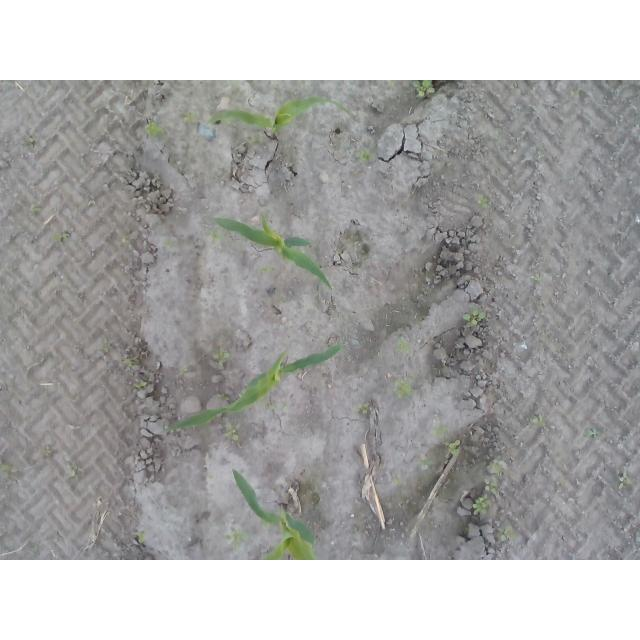Maize: (161, 343, 342, 434), (212, 215, 333, 289), (231, 466, 317, 560), (207, 95, 358, 138)
Weeds: (225, 527, 247, 549), (412, 80, 437, 98), (392, 379, 413, 399), (464, 310, 489, 326), (473, 496, 491, 517), (224, 422, 241, 442), (144, 118, 160, 138), (211, 351, 232, 366), (482, 480, 498, 497), (442, 440, 458, 457), (1, 464, 16, 481), (360, 147, 377, 161), (51, 230, 70, 242), (496, 527, 513, 540), (583, 426, 598, 440), (355, 401, 369, 415), (208, 230, 224, 242), (183, 111, 197, 123), (433, 426, 448, 437), (530, 417, 544, 428), (254, 267, 274, 274), (479, 196, 490, 208), (134, 379, 146, 389), (176, 368, 188, 377), (136, 532, 144, 544)
